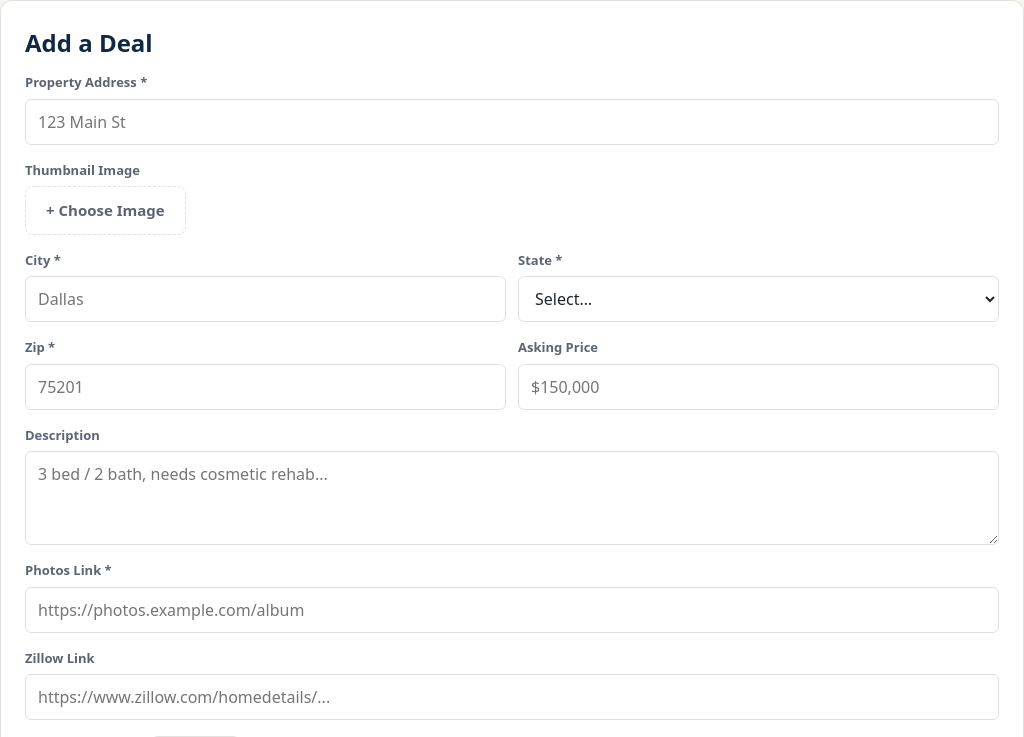
Test: AddDealForm › strips non-digit characters from the zip field and caps it at 5 digits
This screenshot has width=1024, height=737.
Type "ab123456789" into the field labelled "Zip *" at coordinates (266, 386), box [25,364,506,410]
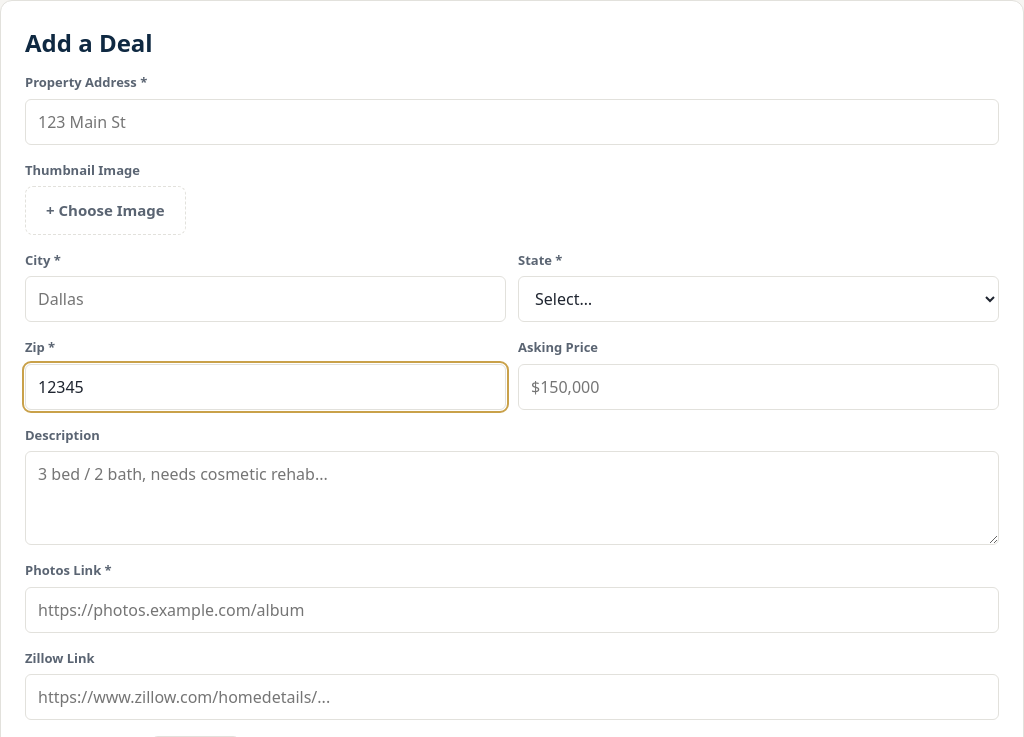
Result: the field labelled "Zip *" holds "12345" at [25,364,506,410]
